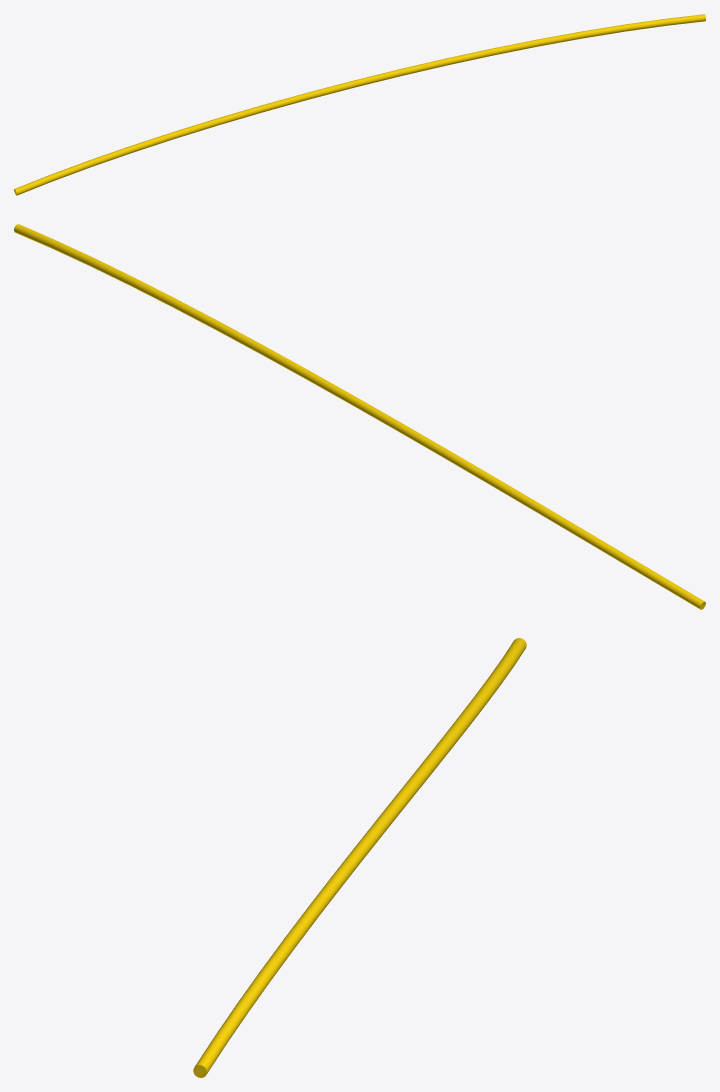
Rendered from Event_421115418_track_185.fbx.
The picture shows the model from 3 angles, top to bottom: view 1: azimuth 30°, elevation 25°; view 2: azimuth 150°, elevation 25°; view 3: azimuth 270°, elevation 25°; orthographic projection. The views are drawn at different scales.
Parts seen in each view (by area): view 1: Model; view 2: Model; view 3: Model.
Boxes of the visible parts, box(x1,y1,x2,y2) form: Model: box(14, 14, 705, 195); Model: box(14, 224, 705, 609); Model: box(193, 638, 526, 1077).
Bounding box in the file's own units: 3.96 × 0.5607 × 0.9343.
